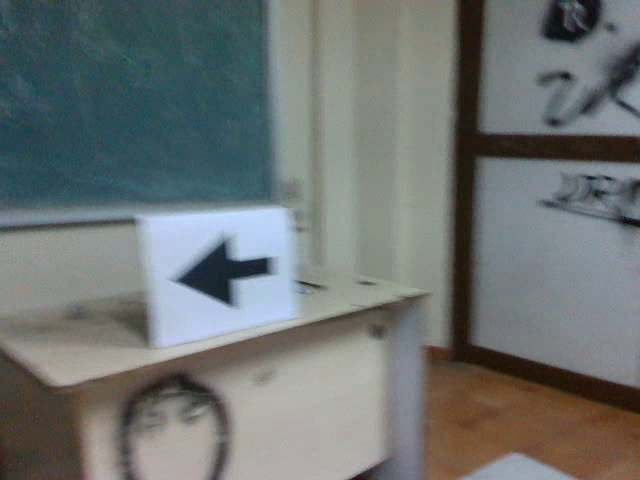Left: (163, 236, 284, 313)
